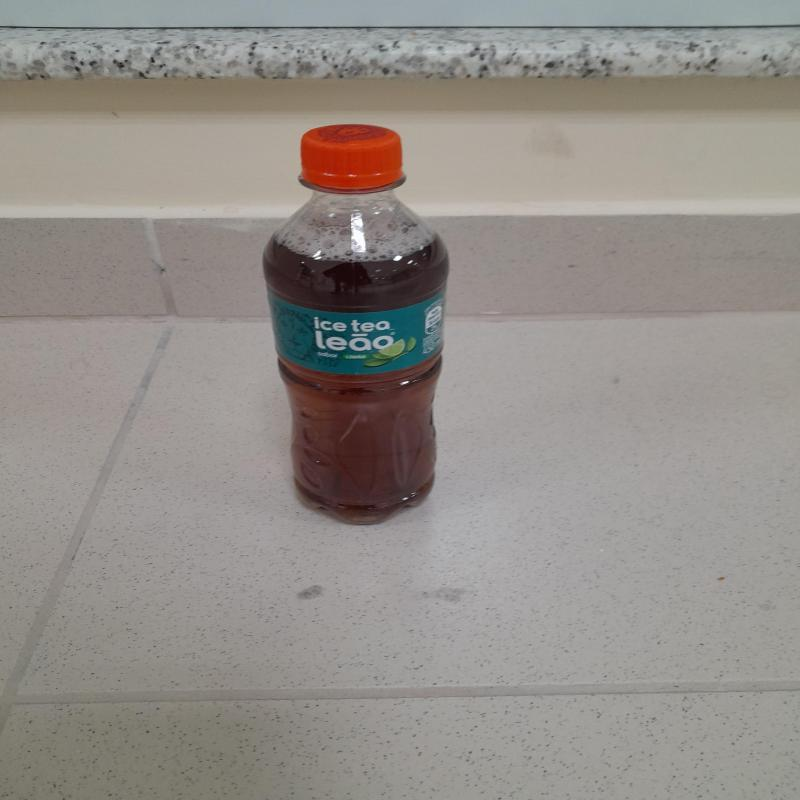IceTea: (261, 125, 451, 528)
